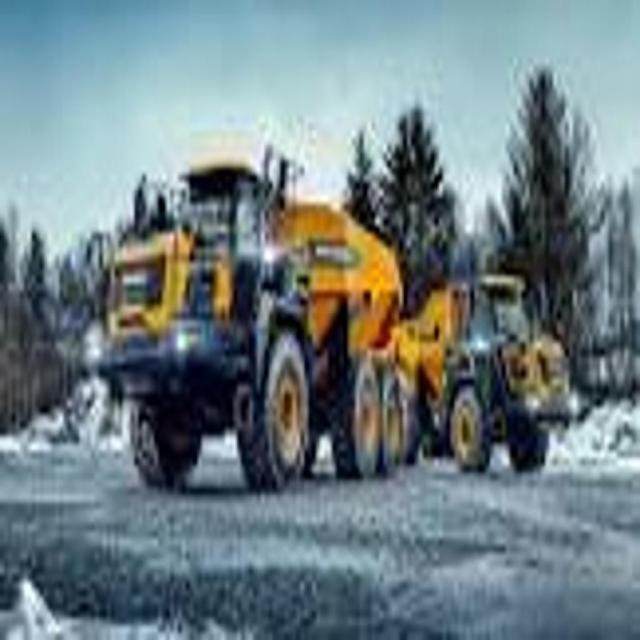dump_truck: (104, 151, 405, 510), (400, 238, 560, 484)
